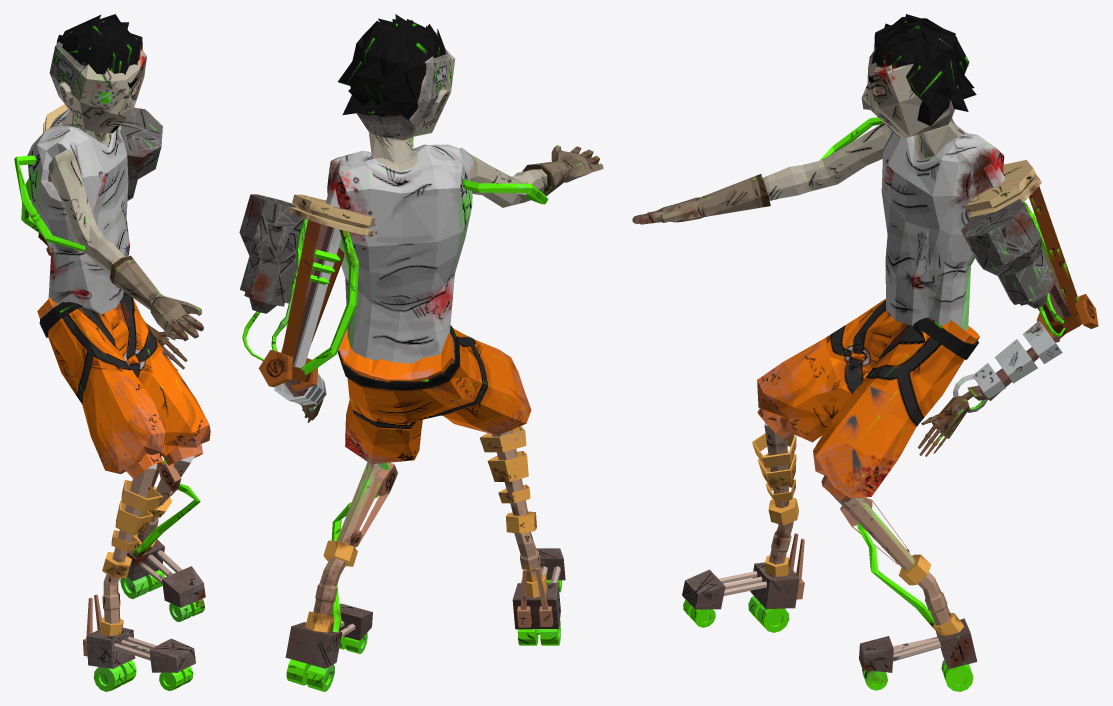
Rendered from CyborgFINALAnimation_000007.obj.
The picture shows the model from 3 angles, left to right: view 1: azimuth 30°, elevation 25°; view 2: azimuth 150°, elevation 25°; view 3: azimuth 270°, elevation 25°; orthographic projection. The views are drawn at different scales.
Parts seen in each view (by area): view 1: CyborgMesh_Cube.002; view 2: CyborgMesh_Cube.002; view 3: CyborgMesh_Cube.002.
Part boxes in pixels (x1,y1,x2,y2): CyborgMesh_Cube.002: (14,14,210,691); CyborgMesh_Cube.002: (239,14,603,691); CyborgMesh_Cube.002: (632,14,1098,691).
Bounding box in the file's own units: 3.04 × 8.89 × 5.9.
